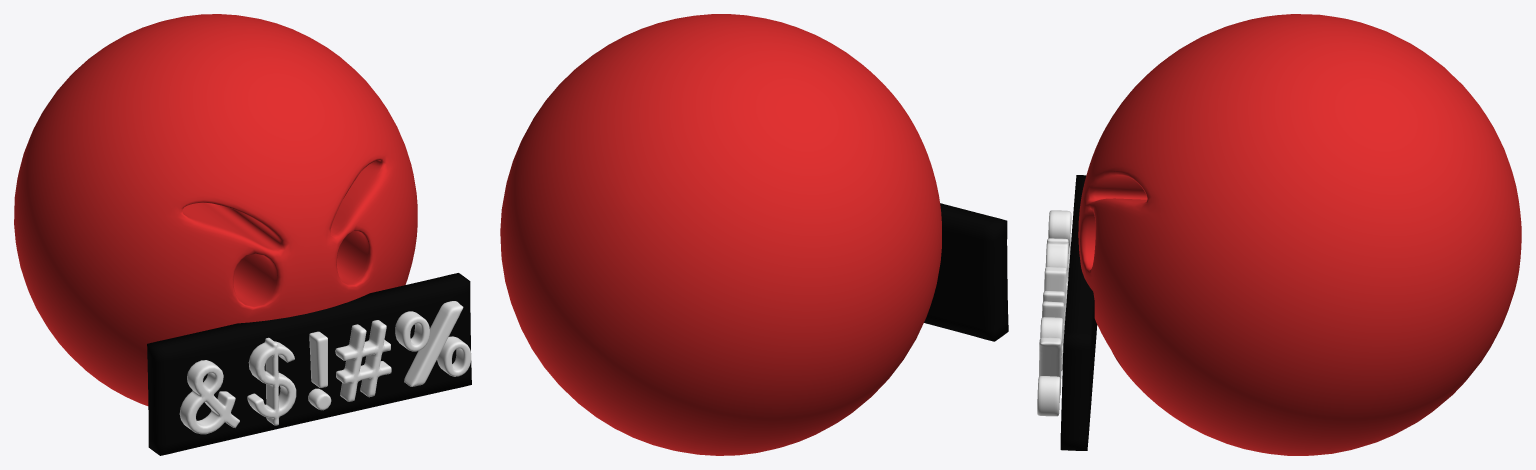
The model's file is 92_swearing.glb.
3 views of the same model, side by side, from view 1: azimuth 30°, elevation 25°; view 2: azimuth 150°, elevation 25°; view 3: azimuth 270°, elevation 25° (orthographic). The views are drawn at different scales.
Parts seen in each view (by area): view 1: Group30555, Group44109, Serius3; view 2: Group30555, Group44109; view 3: Group30555, Group44109, Serius3.
Part boxes in pixels (x1,y1,x2,y2): Group30555: (14, 14, 417, 405); Group44109: (147, 273, 471, 455); Serius3: (179, 301, 471, 434); Group30555: (500, 14, 941, 455); Group44109: (924, 203, 1008, 341); Group30555: (1078, 14, 1521, 455); Group44109: (1060, 175, 1097, 450); Serius3: (1037, 210, 1071, 416).
Size of the model in its own units: 0.6084 by 0.6091 by 0.6676.
